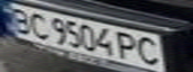0: (78, 22, 96, 52)
4: (93, 25, 118, 56)
5: (63, 19, 84, 48)
9: (45, 16, 69, 45)
B: (3, 4, 36, 34)
C: (133, 34, 166, 66), (24, 10, 54, 39)
P: (115, 30, 142, 61)
